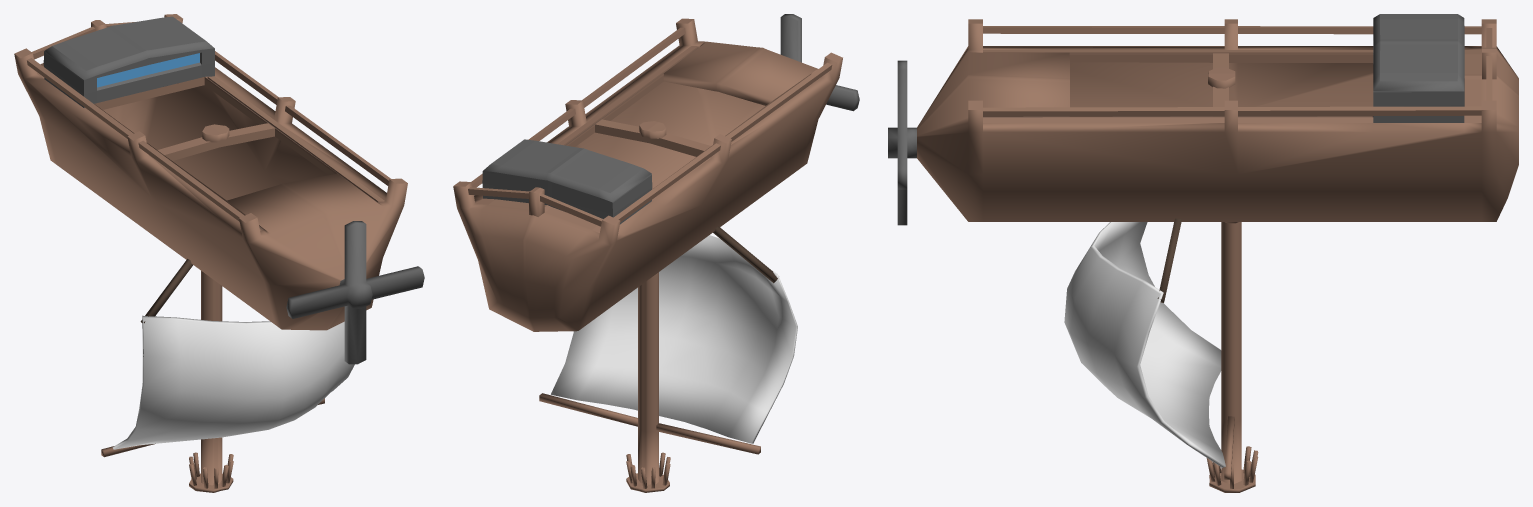
Rendered from ship.glb.
3 renders of one model, left to right at view 1: azimuth 30°, elevation 25°; view 2: azimuth 150°, elevation 25°; view 3: azimuth 270°, elevation 25°, orthographic. The views are drawn at different scales.
Parts seen in each view (by area): view 1: Ship; view 2: Ship; view 3: Ship.
Part boxes in pixels (box(x1,y1,x2,y2)): Ship: box(14, 14, 424, 492); Ship: box(453, 14, 859, 492); Ship: box(888, 14, 1518, 492).
Size of the model in its own units: 16.38 by 27.35 by 35.45.
